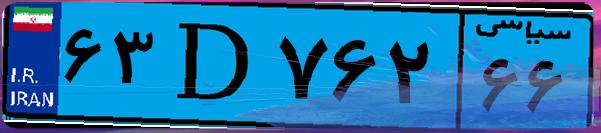2: (385, 28, 445, 110)
3: (110, 28, 158, 98)
6: (330, 28, 385, 110), (57, 26, 110, 100), (475, 38, 525, 113), (525, 38, 570, 115)
7: (270, 28, 330, 110)
D: (158, 12, 270, 120)
